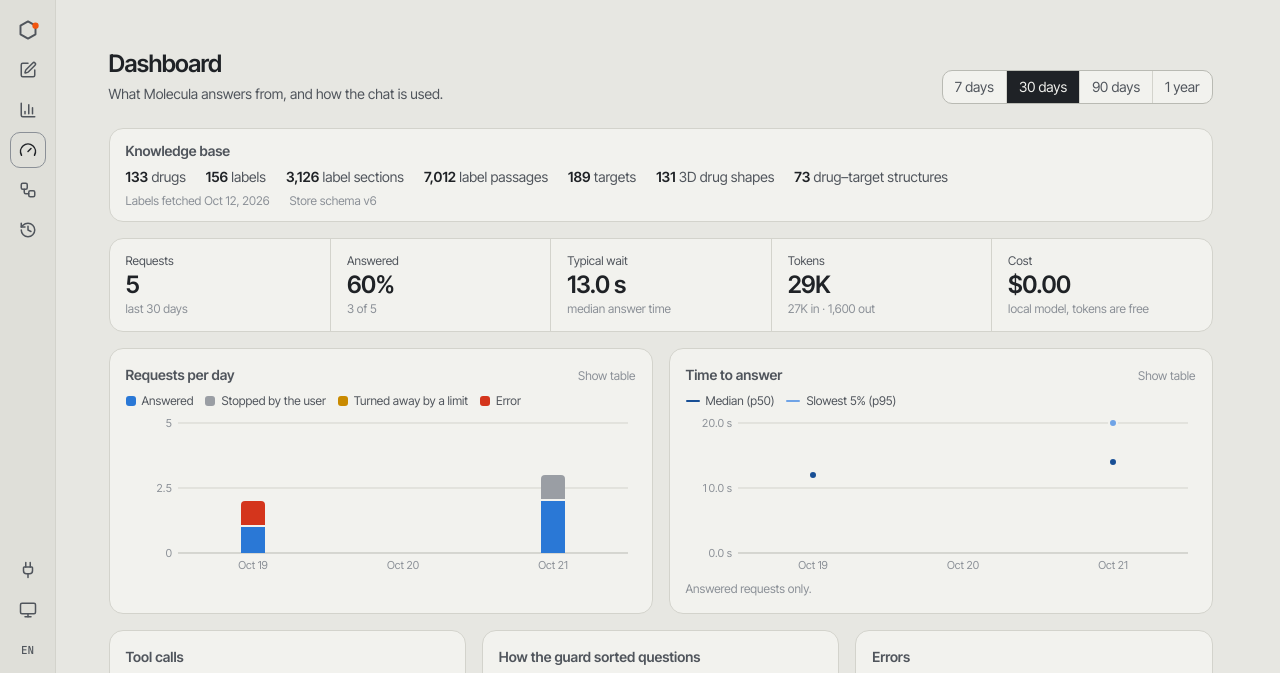
Test: Dashboard page › shows a chart's numbers as a table, one row per day with a request
The image size is (1280, 673).
Click the button "Show table" in the row of "Requests per day" at (607, 376), box [578, 368, 636, 384]
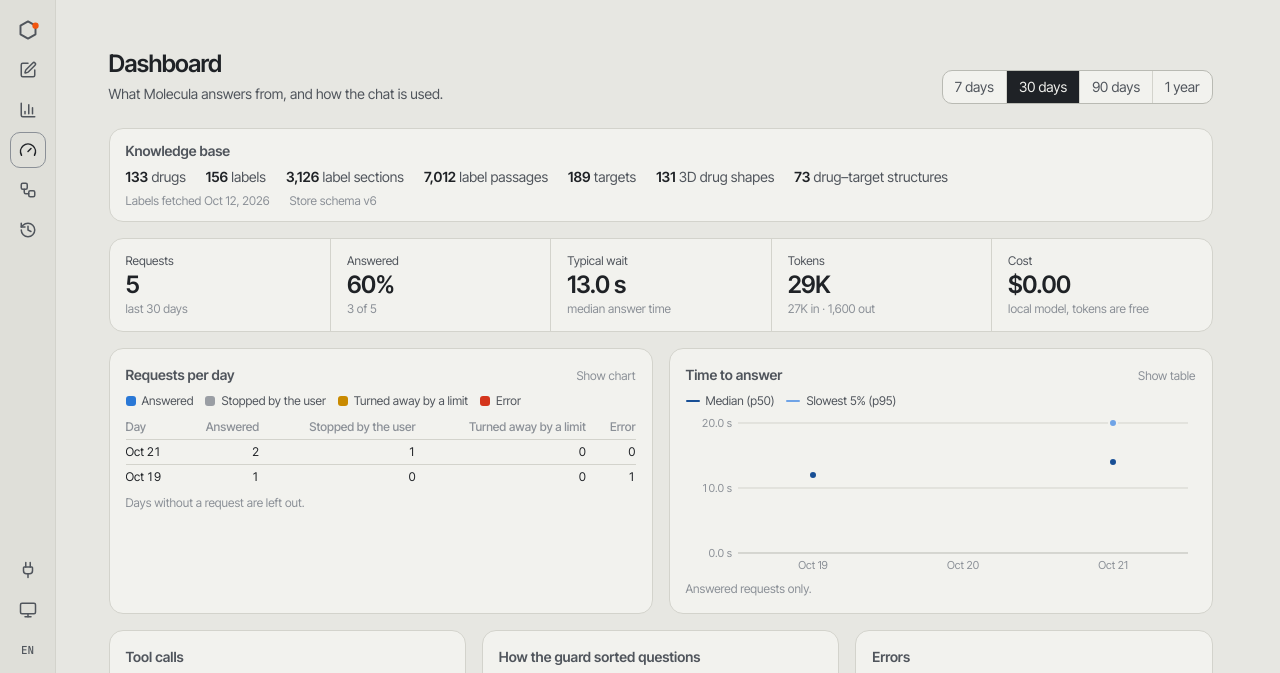
expect the rows read "DayAnsweredStopped by the userTurned away by a limitError", "Oct 212100", "Oct 191001", in this order: met, box [126, 415, 636, 440]; [126, 440, 636, 464]; [126, 464, 636, 489]
